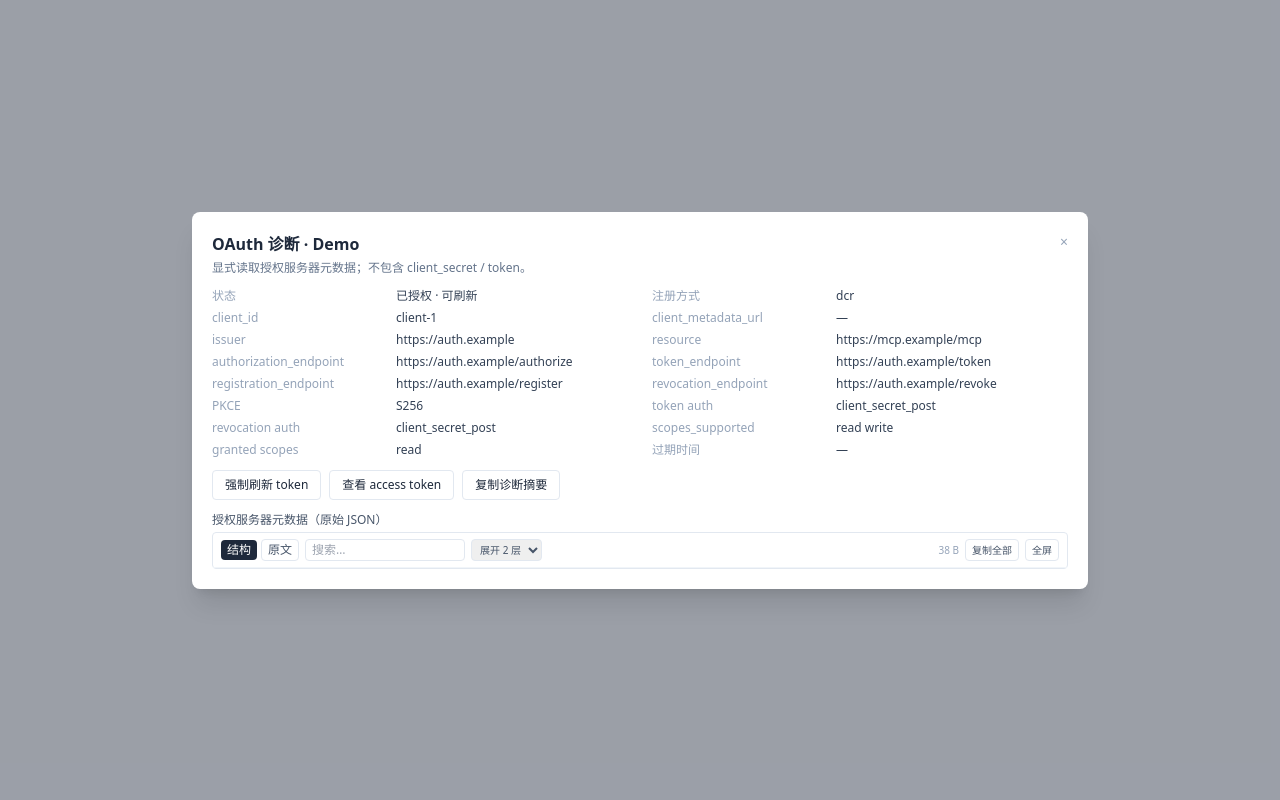
Scenario: OAuthDiagnosticsDialog › 展示端点/注册方式，且 token 默认掩码
Expected: the heading "OAuth 诊断 · Demo" is shown, top-left (212, 232), bottom-right (359, 254)
Expected: the text "https://auth.example/authorize" is shown, top-left (396, 354), bottom-right (573, 370)
What coordinates should you click on to do the following:
click the button "查看 access token"
I would click on:
 (392, 484)
Its box is top-left (329, 470), bottom-right (454, 500).
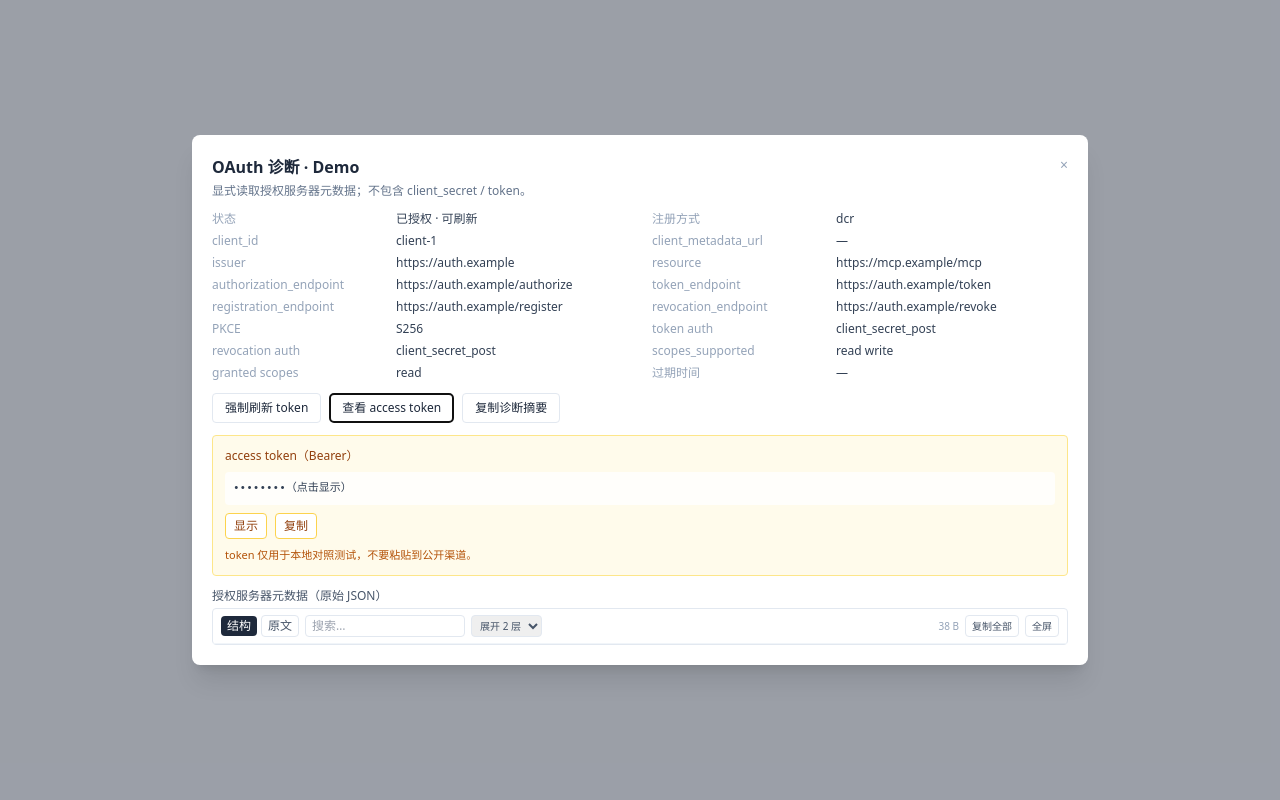
Result: the text "••••••••（点击显示）" is shown at top-left (225, 472), bottom-right (1055, 504)
